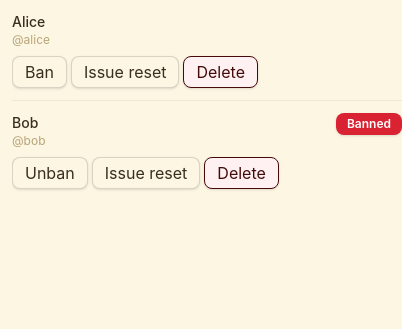
Test case: FollowerManagementPanel › dismisses confirmation on Cancel
Click the button "Ban".
click(39, 72)  # box [12,56,67,88]
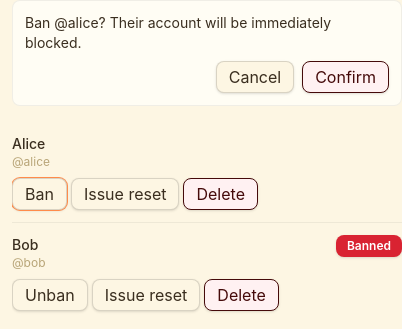
Click the button "Cancel".
click(255, 77)  # box [216,61,294,93]
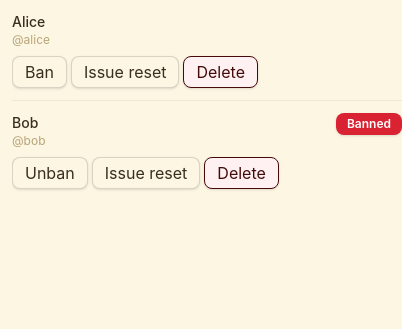
Expected: the button "Confirm" is gone
